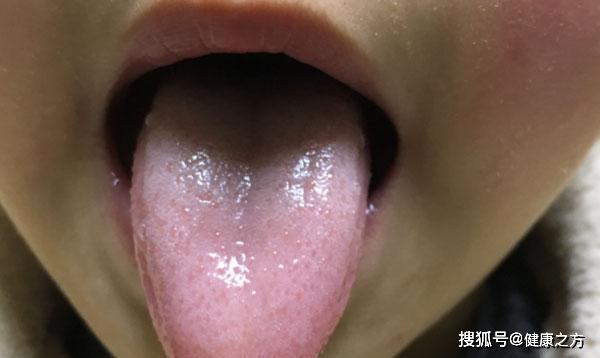baitaishe: (130, 59, 369, 358)
